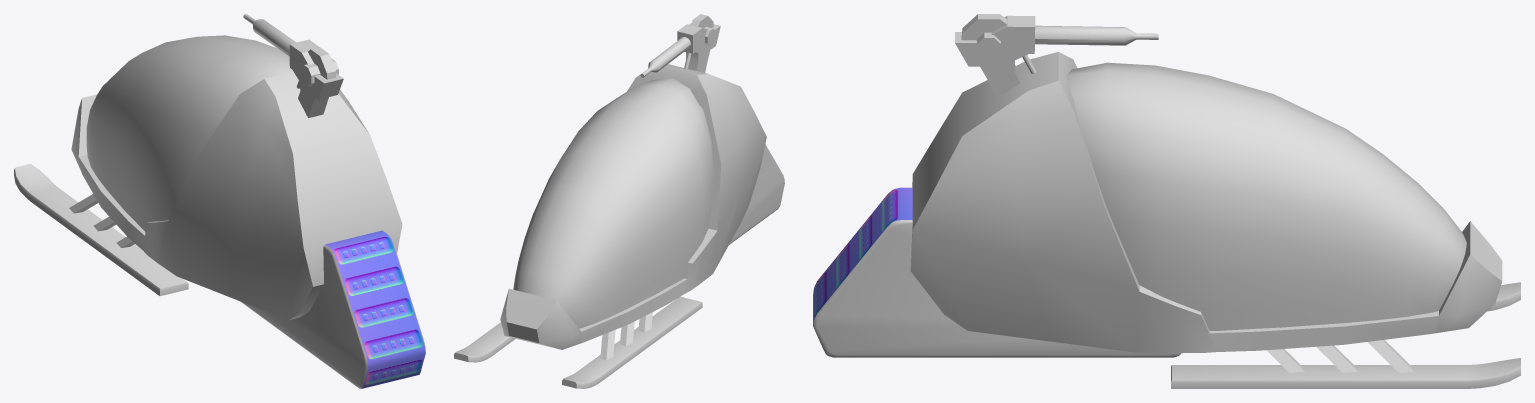
Rendered from Stinger.fbx.
The picture shows the model from 3 angles, left to right: view 1: azimuth 30°, elevation 25°; view 2: azimuth 150°, elevation 25°; view 3: azimuth 270°, elevation 25°; orthographic projection. The views are drawn at different scales.
Parts seen in each view (by area): view 1: Stinger, Stinger.001, Stinger_Cannon; view 2: Stinger, Stinger_Cannon; view 3: Stinger, Stinger_Cannon, Stinger.001.
Part boxes in pixels (x1,y1,x2,y2): Stinger: (14, 35, 425, 388); Stinger.001: (325, 230, 425, 388); Stinger_Cannon: (243, 14, 343, 117); Stinger: (454, 64, 784, 388); Stinger_Cannon: (640, 14, 720, 77); Stinger: (813, 52, 1520, 388); Stinger_Cannon: (955, 14, 1158, 97); Stinger.001: (813, 187, 912, 326).
Size of the model in its own units: 13.56 by 21.19 by 41.64.
